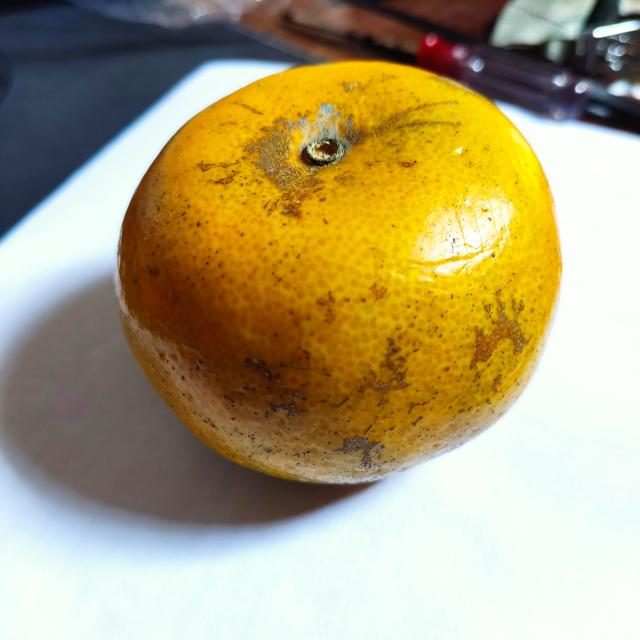orange: (113, 59, 564, 485)
